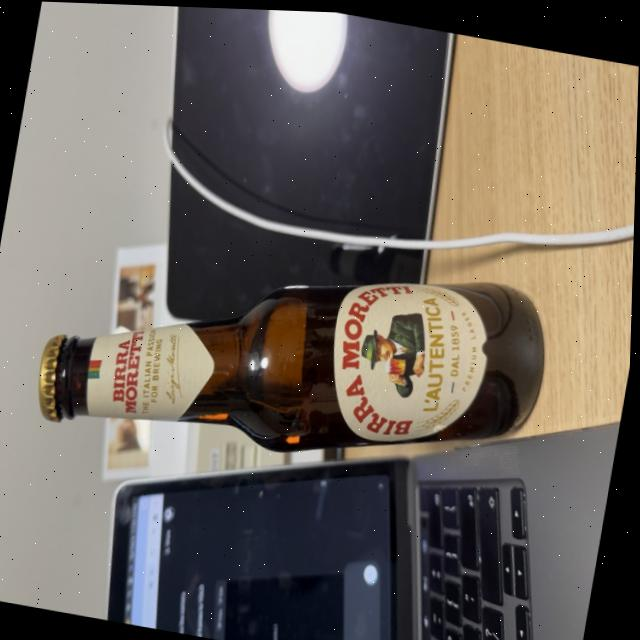beer: (27, 200, 563, 505)
